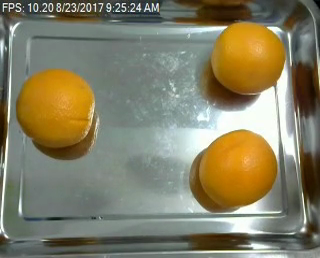Orange: (197, 129, 278, 207), (15, 69, 94, 148), (211, 21, 284, 93)
